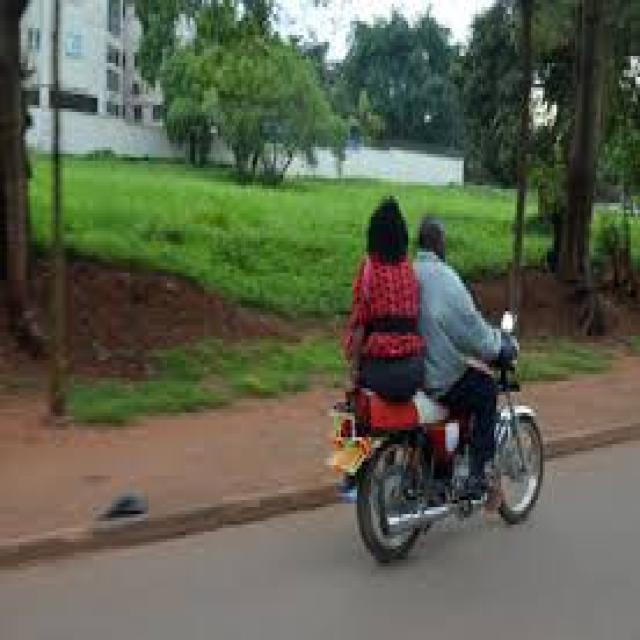bodaboda: (284, 271, 619, 573)
